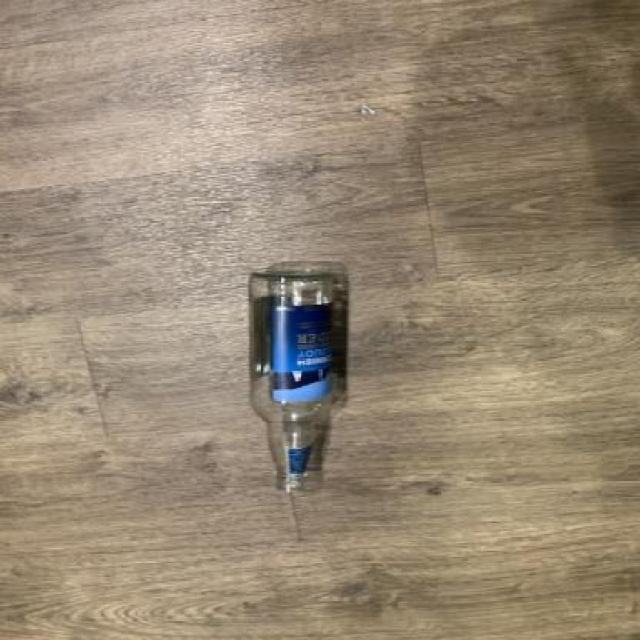trash: (244, 268, 350, 498)
